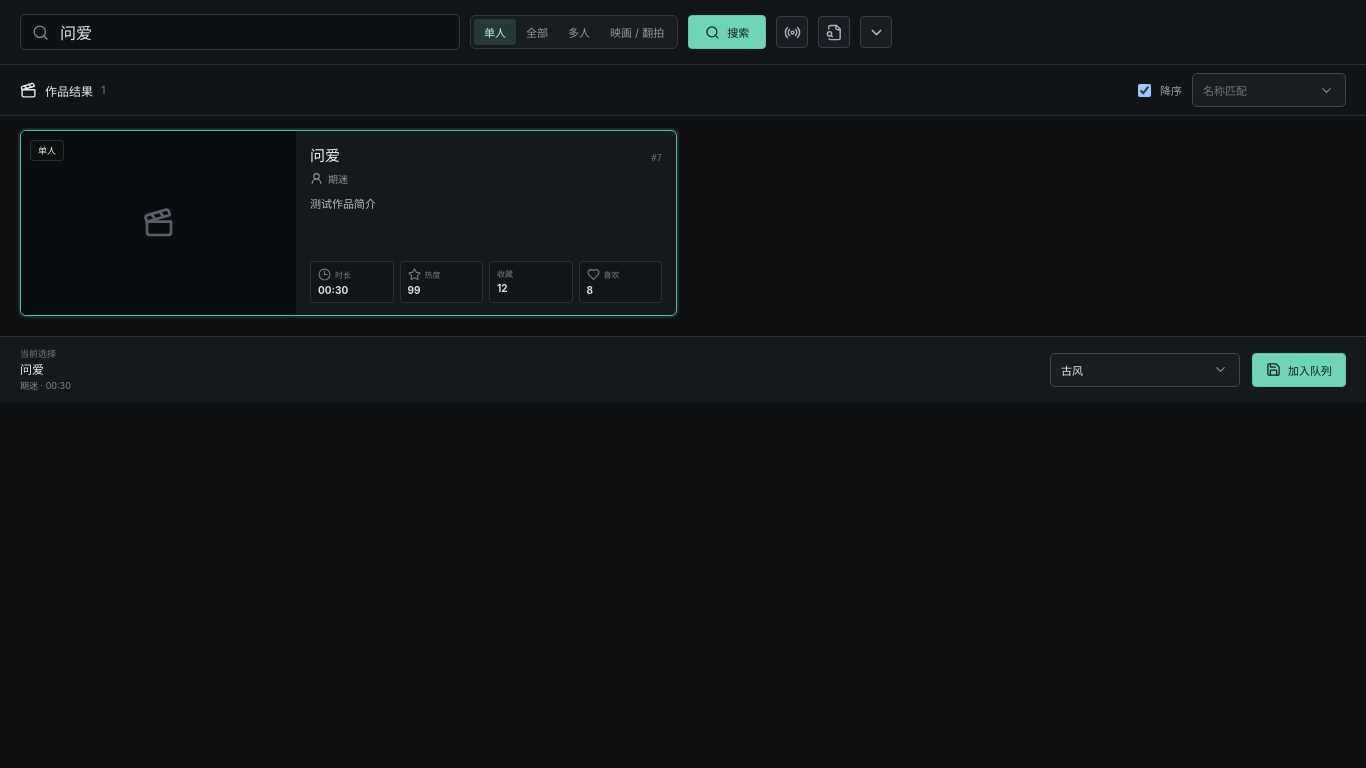
Test: StagePage › opens the asynchronous diagnostics report panel
Click the button titled "高级诊断".
click(834, 32)  # box x1=818 y1=16 x2=850 y2=48
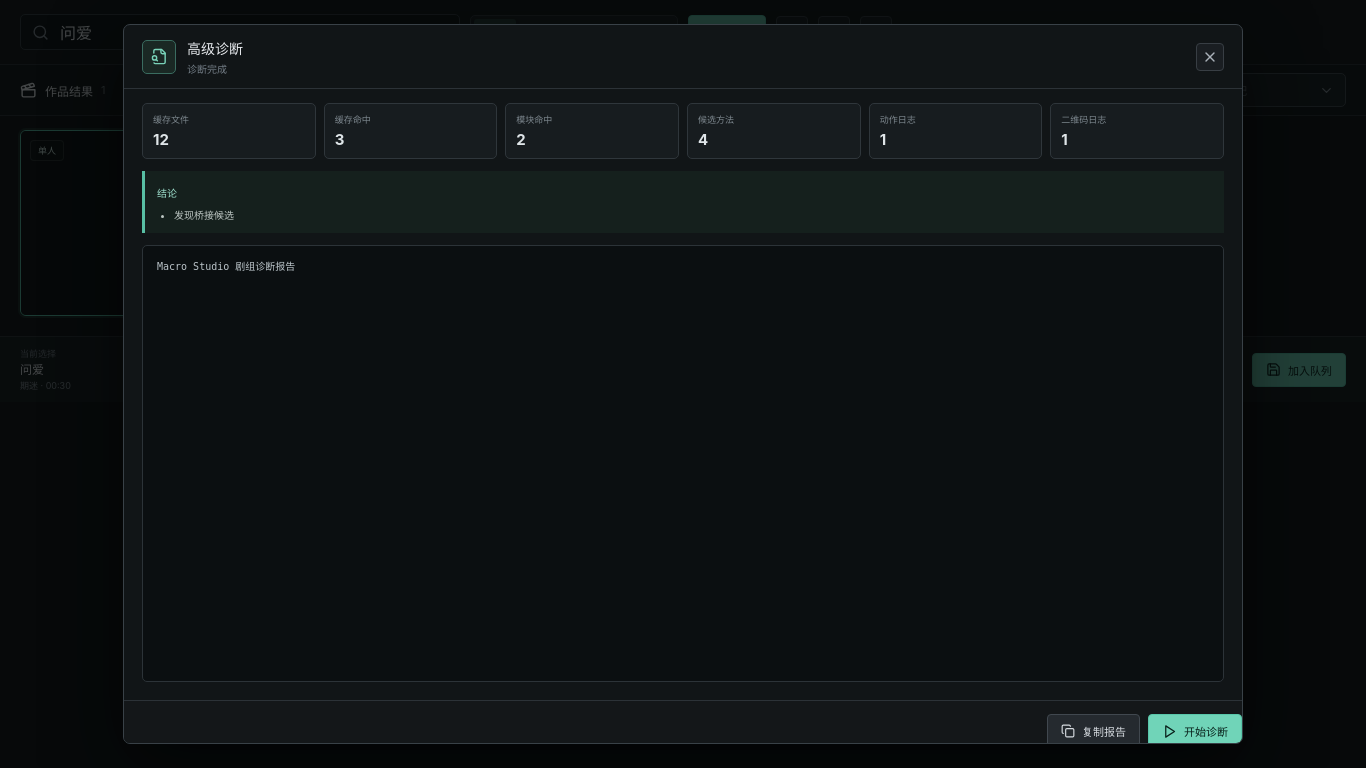
Now the dialog with class "stage-diagnostics-dialog" shows "诊断完成", box x1=187 y1=62 x2=227 y2=74
Now the dialog with class "stage-diagnostics-dialog" shows "发现桥接候选", box x1=174 y1=209 x2=234 y2=221
Now the text with class "stage-diagnostics-report" reads "Macro Studio 剧组诊断报告", box x1=157 y1=261 x2=295 y2=272
